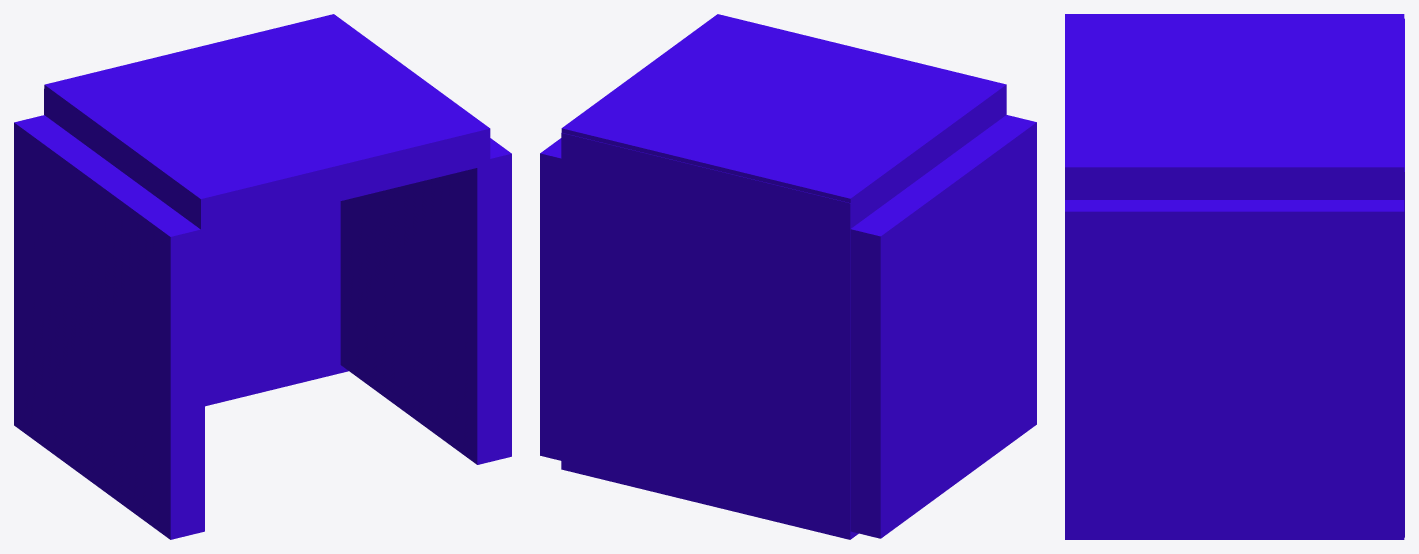
Rendered from MilitaryPlant.FBX.
3 views of the same model, side by side, from view 1: azimuth 30°, elevation 25°; view 2: azimuth 150°, elevation 25°; view 3: azimuth 270°, elevation 25° (orthographic). The views are drawn at different scales.
Visible parts, largest first — view 1: Box001, Box003, Box002, Box004; view 2: Box004, Box001, Box003, Box002; view 3: Box002, Box003, Box004.
Part boxes in pixels (box(x1,y1,x2,y2)): Box001: box(14, 115, 204, 539); Box003: box(44, 14, 490, 234); Box002: box(340, 138, 511, 464); Box004: box(44, 89, 348, 406); Box004: box(561, 132, 858, 539); Box001: box(850, 115, 1036, 538); Box003: box(561, 14, 1006, 228); Box002: box(540, 138, 561, 460); Box002: box(1065, 200, 1404, 539); Box003: box(1065, 14, 1404, 199); Box004: box(1361, 18, 1404, 537).
Bounding box in the file's own units: 42.74 × 40.88 × 33.99.
